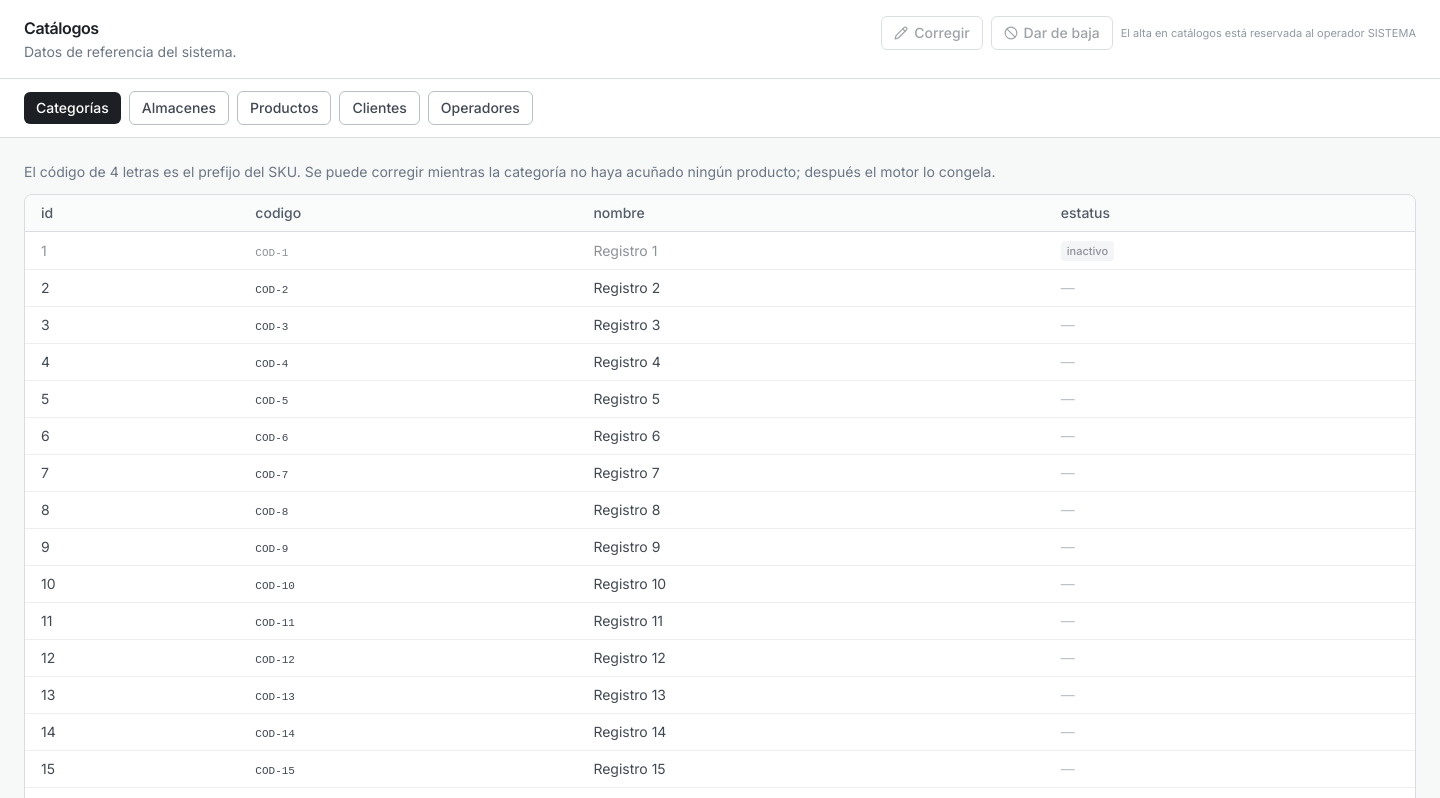
Scenario: Catalogos - baja logica y reactivacion › un producto se juzga por estatus, no por es_activo
Click the button "Productos" at (284, 108), box [237,91,332,125]
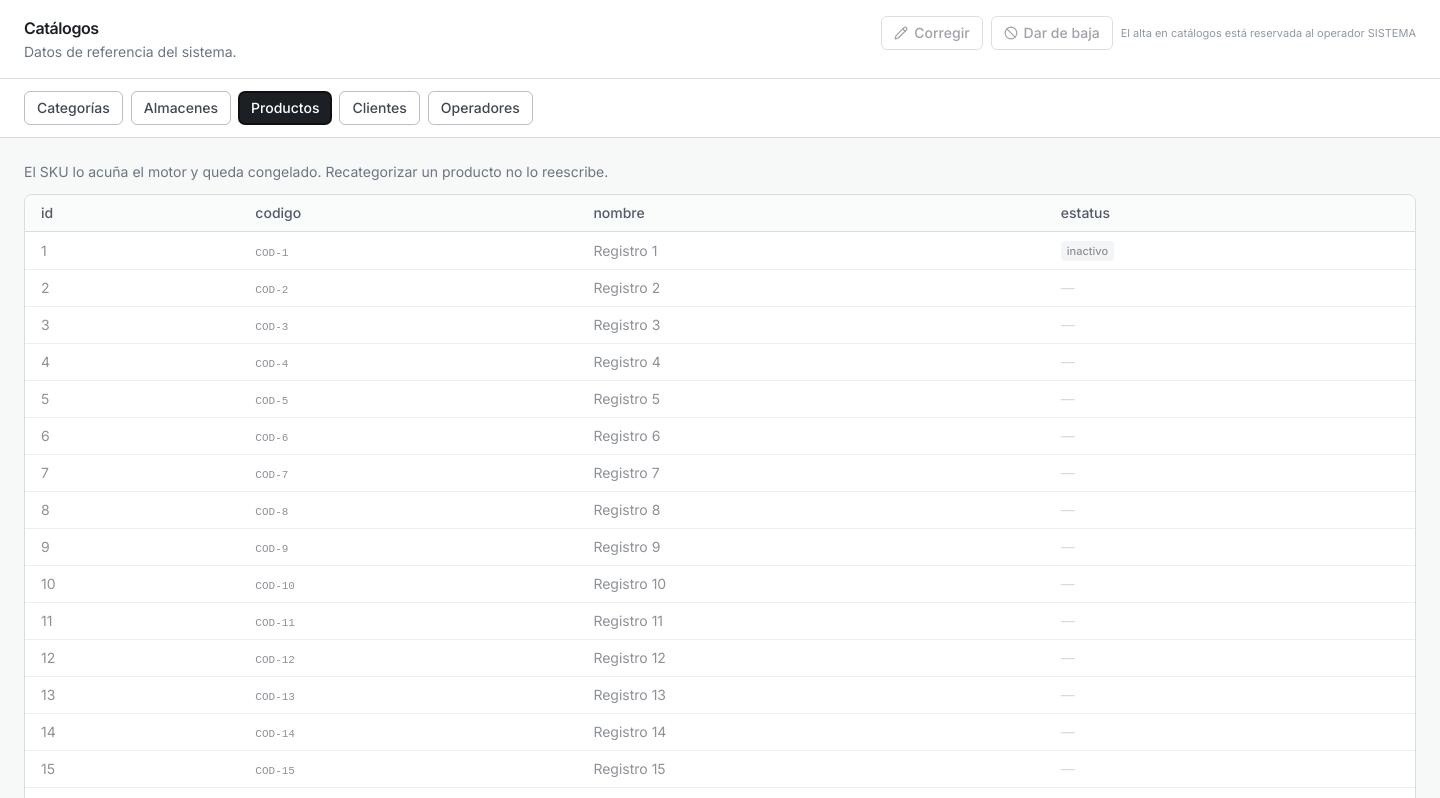
Click the text "Registro 1" at (625, 250), box [577,232,1045,270]
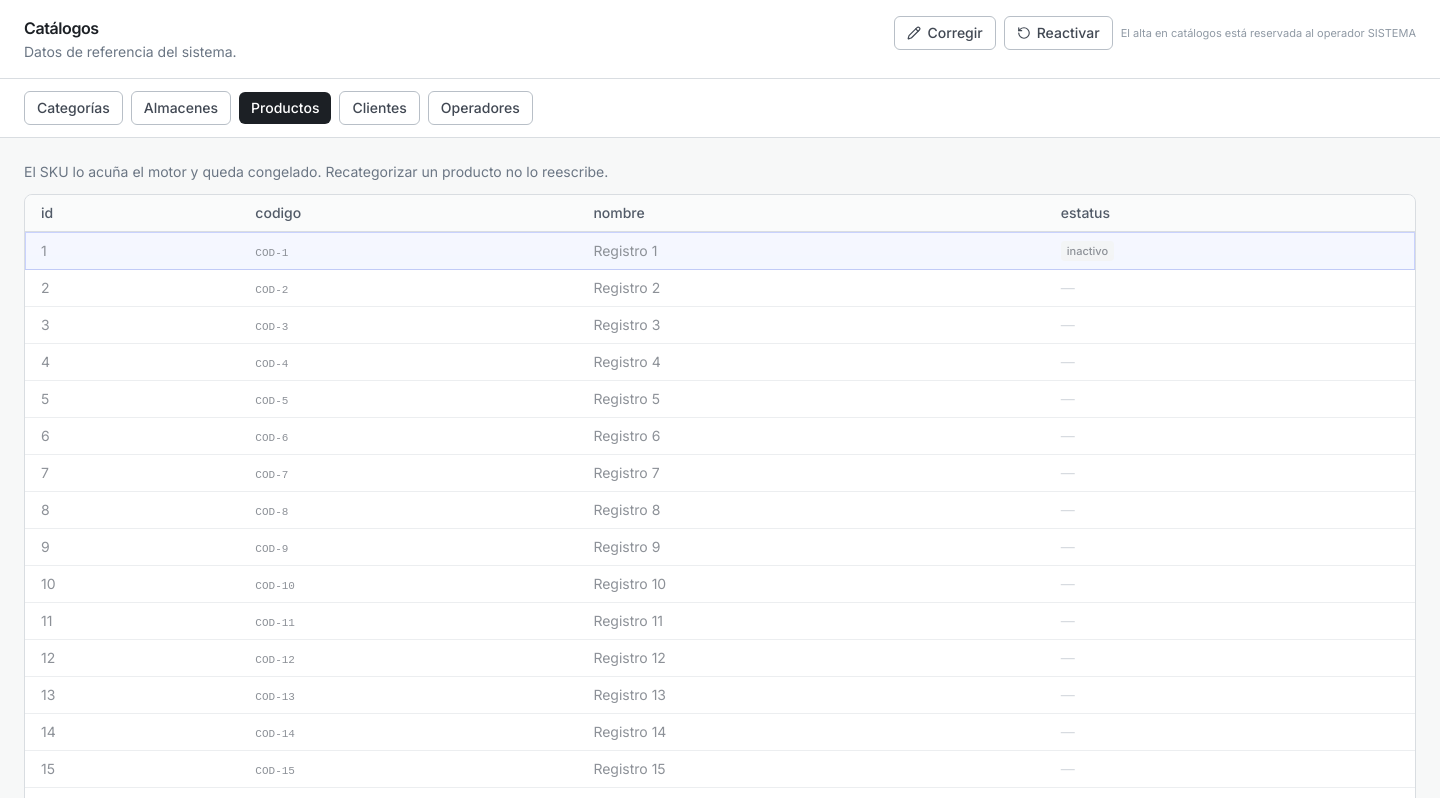
Check: the button "Reactivar" is shown, box [1004,16,1113,50]
